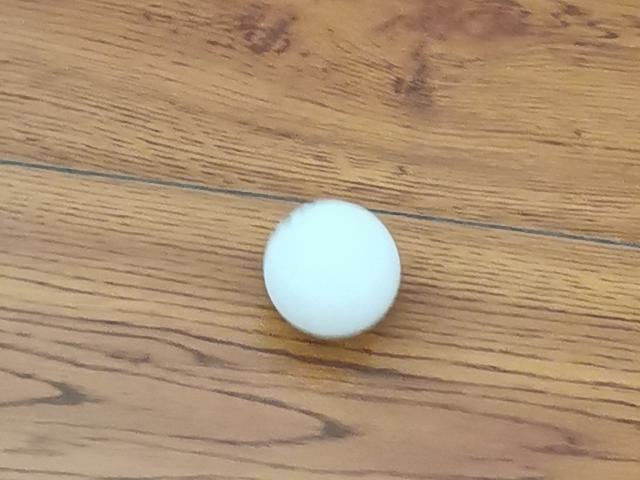ball: (261, 197, 401, 338)
